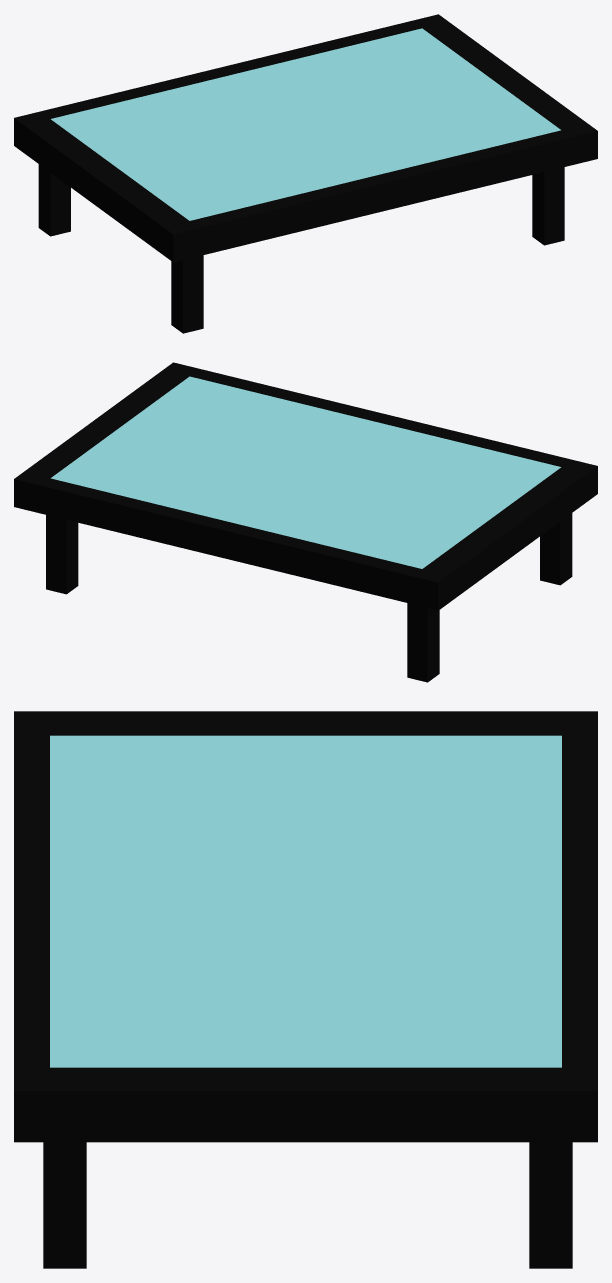
The model's file is glasstable.fbx.
3 renders of one model, top to bottom at view 1: azimuth 30°, elevation 25°; view 2: azimuth 150°, elevation 25°; view 3: azimuth 270°, elevation 25°, orthographic. The views are drawn at different scales.
Visible parts, largest first — view 1: Glass, Table, Piedini; view 2: Glass, Table, Piedini; view 3: Glass, Table, Piedini.
Part boxes in pixels (left/top/right/bottom): Glass: left=51, top=28, right=560, bottom=220; Table: left=14, top=14, right=597, bottom=262; Piedini: left=38, top=164, right=564, bottom=333; Glass: left=51, top=376, right=561, bottom=568; Table: left=14, top=362, right=597, bottom=610; Piedini: left=46, top=513, right=572, bottom=682; Glass: left=50, top=735, right=561, bottom=1067; Table: left=14, top=711, right=597, bottom=1142; Piedini: left=43, top=1142, right=572, bottom=1268.
Bounding box in the file's own units: 476 × 117 × 310.
